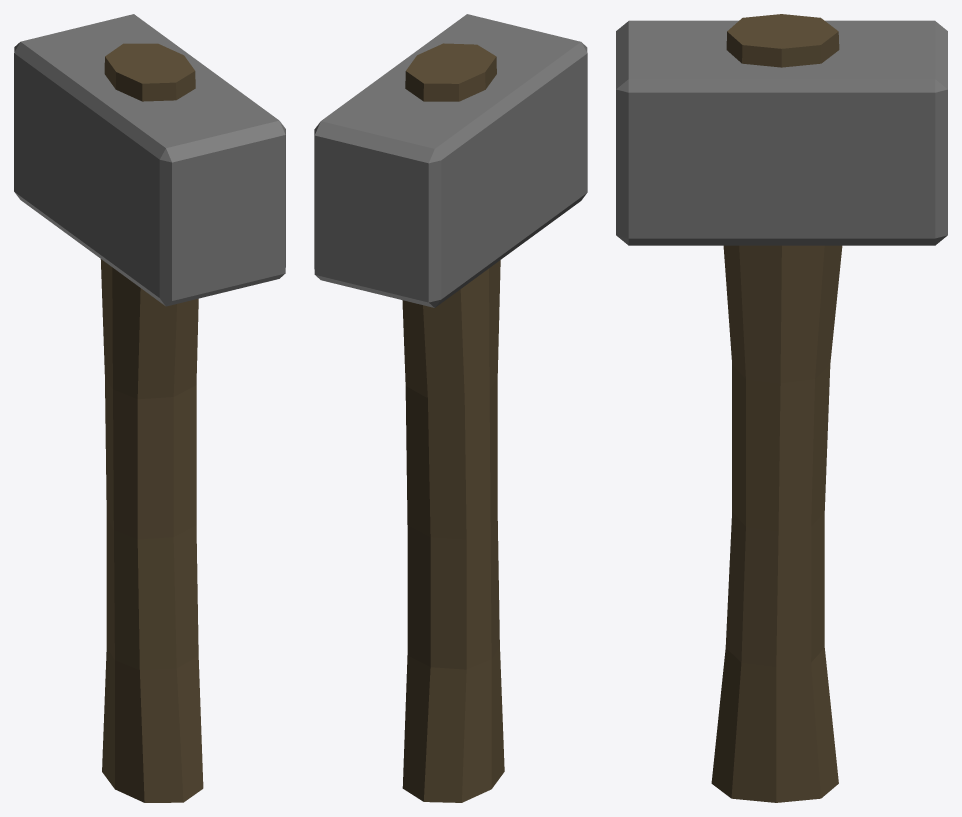
Rendered from mallet.fbx.
3 renders of one model, left to right at view 1: azimuth 30°, elevation 25°; view 2: azimuth 150°, elevation 25°; view 3: azimuth 270°, elevation 25°, orthographic. The views are drawn at different scales.
Visible parts, largest first — view 1: Cube.004; view 2: Cube.004; view 3: Cube.004.
Part boxes in pixels (<box>): Cube.004: <box>14,14,285,802</box>; Cube.004: <box>314,14,587,802</box>; Cube.004: <box>616,14,947,802</box>.
Size of the model in its own units: 0.108 by 0.585 by 0.234.
